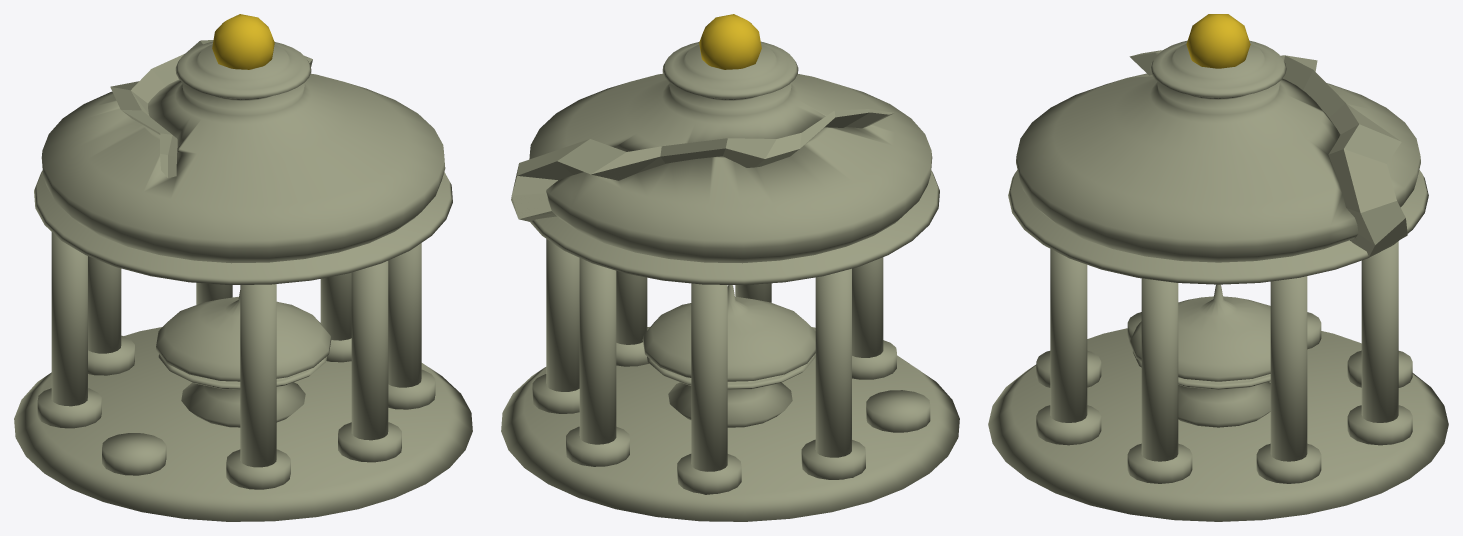
The model's file is TMM1_V001.fbx.
3 views of the same model, side by side, from view 1: azimuth 30°, elevation 25°; view 2: azimuth 150°, elevation 25°; view 3: azimuth 270°, elevation 25° (orthographic).
Parts seen in each view (by area): view 1: Cylinder.004, Cylinder, Cylinder.001, Cylinder.005, Cylinder.003, Cylinder.002, Icosphere, Cylinder.006; view 2: Cylinder.004, Cylinder, Cylinder.001, Cylinder.005, Cylinder.002, Cylinder.003, Cylinder.006, Icosphere; view 3: Cylinder.004, Cylinder, Cylinder.001, Cylinder.005, Cylinder.003, Cylinder.002, Cylinder.006, Icosphere.
Boxes of the visible parts, x1,y1,x2,y2 form: Cylinder.004: (41,40,445,263); Cylinder: (14,327,472,521); Cylinder.001: (51,232,421,467); Cylinder.005: (155,290,331,427); Cylinder.003: (34,170,452,284); Cylinder.002: (37,335,435,489); Icosphere: (212,14,274,69); Cylinder.006: (120,42,312,177); Cylinder.004: (511,41,932,263); Cylinder: (501,326,959,521); Cylinder.001: (546,239,883,471); Cylinder.005: (642,285,815,427); Cylinder.002: (532,327,930,494); Cylinder.003: (530,170,939,284); Cylinder.006: (512,110,891,221); Icosphere: (699,14,761,69); Cylinder.004: (1016,40,1420,262); Cylinder: (988,328,1448,521); Cylinder.001: (1050,241,1398,461); Cylinder.005: (1130,284,1270,427); Cylinder.003: (1008,170,1428,284); Cylinder.002: (1036,312,1412,483); Cylinder.006: (1130,50,1407,256); Icosphere: (1186,14,1250,68).
Size of the model in its own units: 400 by 392 by 400.
